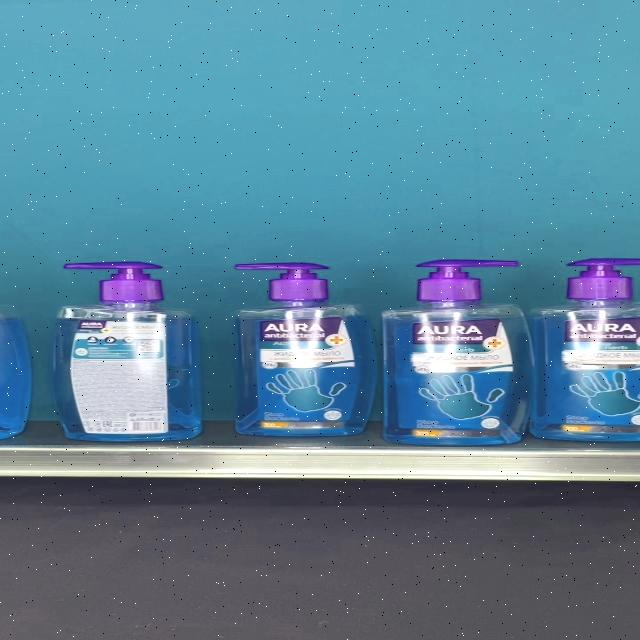Bottle: (382, 259, 534, 445), (50, 262, 202, 440), (234, 263, 378, 436), (528, 257, 640, 441)
Cap: (418, 260, 520, 302), (64, 262, 164, 304), (234, 263, 329, 301), (564, 257, 640, 301)
